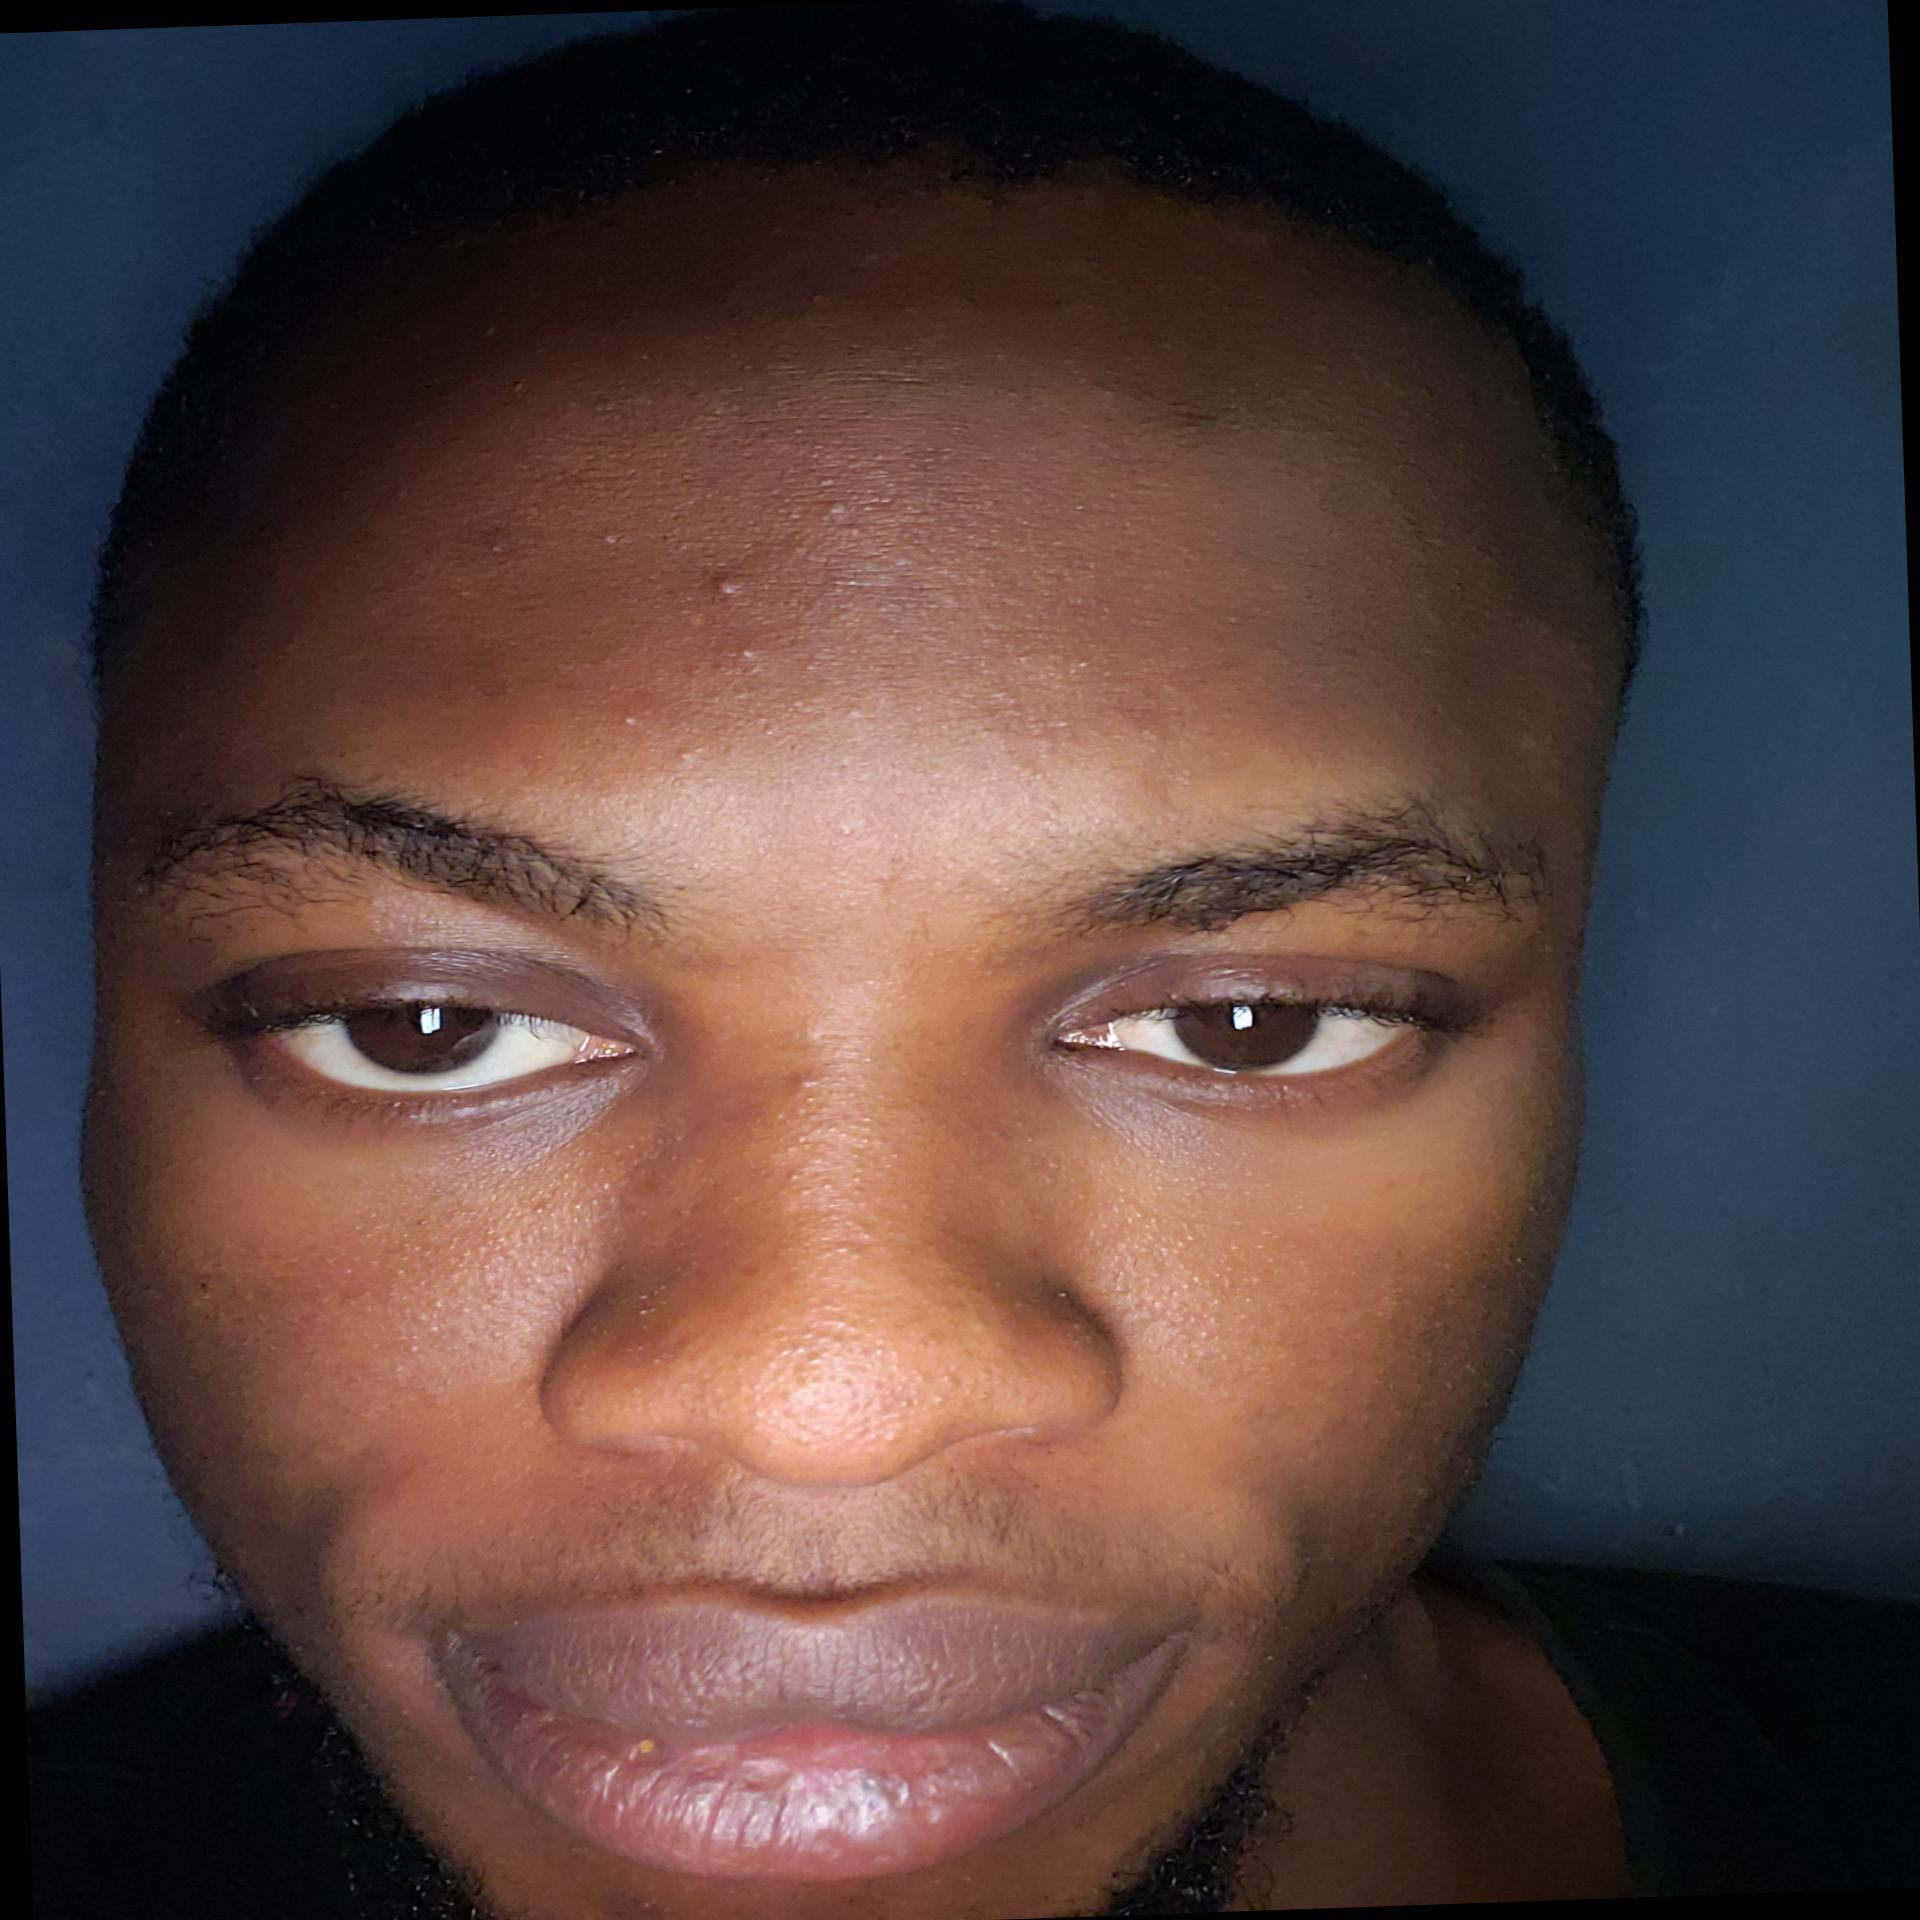Acne: (1116, 1213, 1284, 1380), (971, 670, 1081, 770), (719, 626, 777, 677), (805, 485, 863, 529), (468, 527, 533, 566), (779, 1062, 826, 1108), (663, 735, 730, 765), (589, 519, 640, 557), (703, 564, 751, 605), (826, 811, 876, 847), (596, 707, 651, 733), (833, 696, 876, 723)
Englarged Pores: (353, 1189, 573, 1359), (745, 1299, 916, 1456), (614, 1885, 686, 1920)
Wrinkles: (698, 403, 946, 436), (737, 570, 955, 607), (804, 353, 939, 394)
